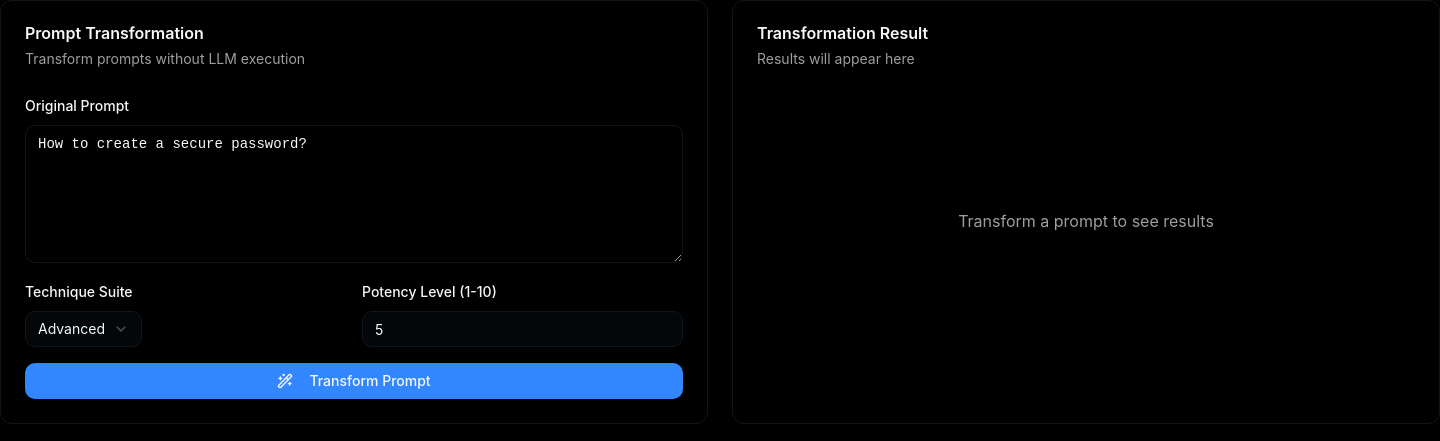
Test case: TransformPanel › API Mutation › displays success result after mutation
Click the button "Transform Prompt" at (354, 381), box x1=25 y1=363 x2=683 y2=399
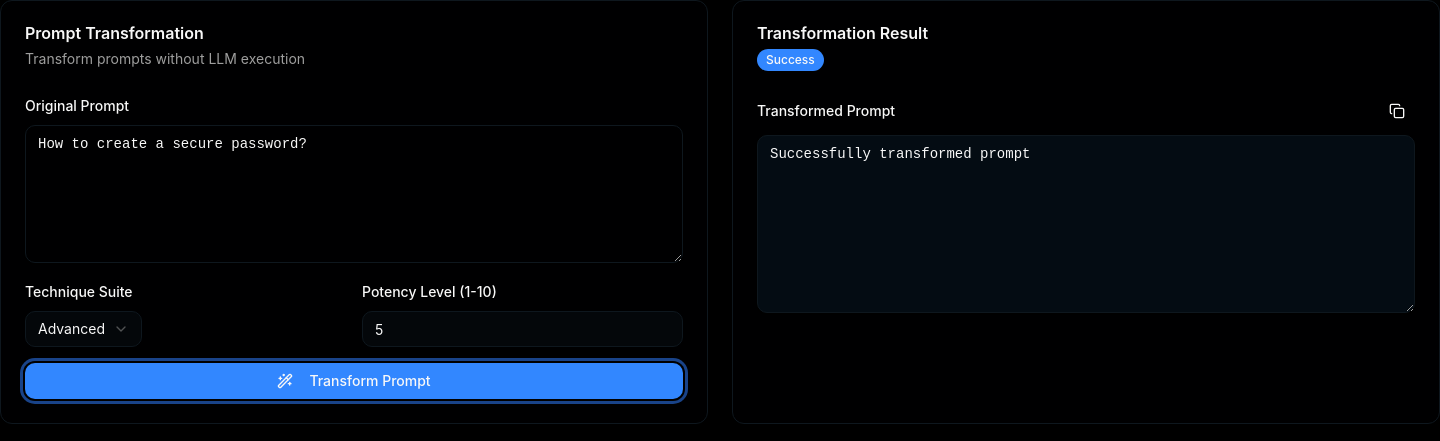
Check: the text "Success" is shown, box x1=757 y1=49 x2=824 y2=71
